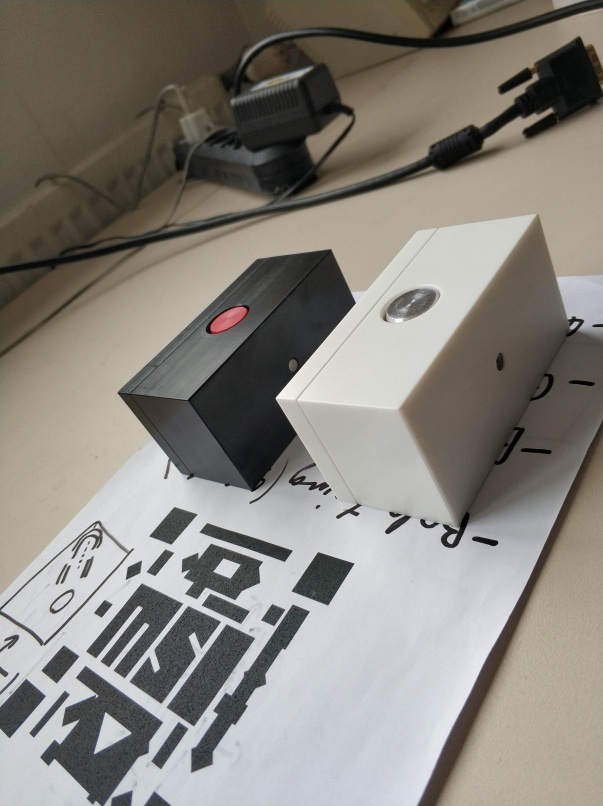black+black+red: (120, 246, 361, 494)
white+white+silver: (271, 213, 573, 527)
